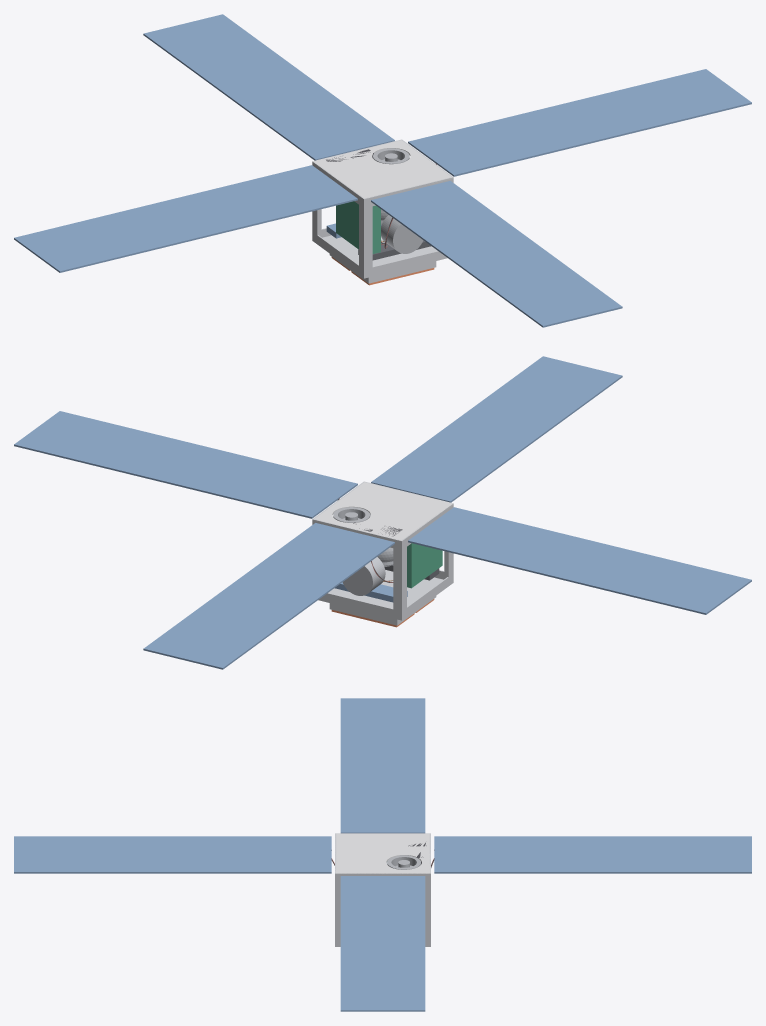
File: nanotug_deployed.glb
3 views of the same model, one above another, from view 1: azimuth 30°, elevation 25°; view 2: azimuth 150°, elevation 25°; view 3: azimuth 270°, elevation 25° (orthographic). The views are drawn at different scales.
Parts seen in each view (by area): view 1: wing_1, wing_0, wing_3, wing_2, frame, top_plate, avionics, hall_tan_m, pad_suspension; view 2: wing_0, wing_1, wing_2, wing_3, frame, top_plate, avionics, hall_tan_p, pad_suspension; view 3: wing_2, wing_3, wing_0, wing_1, top_plate, frame.
Part boxes in pixels (box(x1,y1,x2,y2)): wing_1: box(14, 165, 357, 272); wing_0: box(408, 69, 751, 176); wing_3: box(371, 181, 622, 327); wing_2: box(143, 14, 394, 160); frame: box(312, 139, 453, 278); top_plate: box(312, 140, 453, 199); avionics: box(336, 201, 380, 253); hall_tan_m: box(381, 215, 423, 253); pad_suspension: box(329, 254, 436, 283); wing_0: box(14, 411, 357, 518); wing_1: box(408, 507, 751, 614); wing_2: box(143, 523, 394, 669); wing_3: box(371, 356, 622, 502); frame: box(312, 481, 453, 620); top_plate: box(312, 482, 453, 541); avionics: box(407, 543, 442, 588); hall_tan_p: box(342, 557, 385, 595); pad_suspension: box(329, 596, 436, 625); wing_2: box(434, 836, 751, 873); wing_3: box(14, 836, 331, 873); wing_0: box(340, 876, 425, 1011); wing_1: box(340, 698, 425, 833); top_plate: box(335, 833, 430, 874); frame: box(335, 833, 430, 946).
Size of the model in its own units: 1.74 by 0.227 by 1.74.
